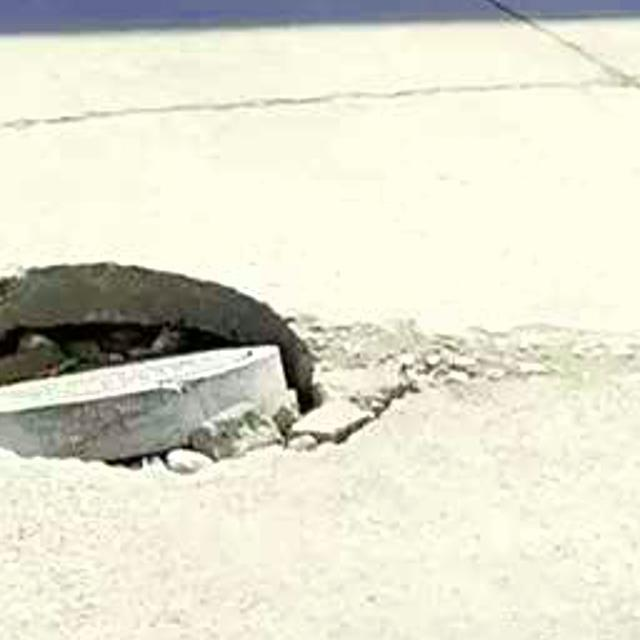circle: (0, 230, 480, 536)
